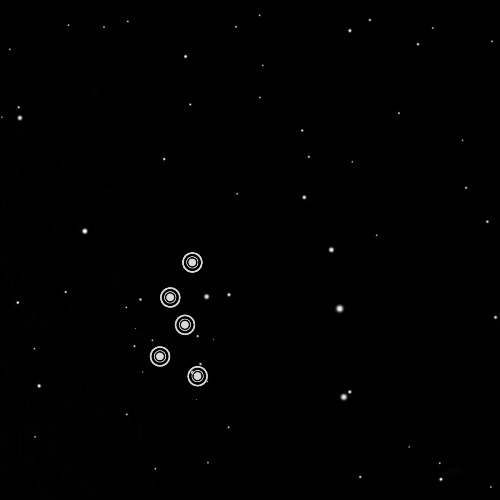cassiopeia: (138, 248, 222, 395)
